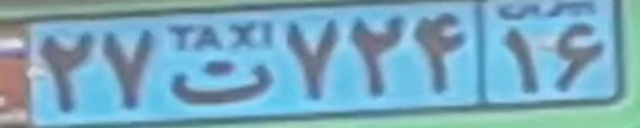1: (505, 25, 538, 92)
2: (350, 14, 407, 96), (40, 30, 93, 112)
4: (415, 11, 466, 93)
6: (553, 21, 606, 91)
7: (284, 17, 345, 100), (103, 29, 152, 109)
te: (168, 58, 274, 106)
